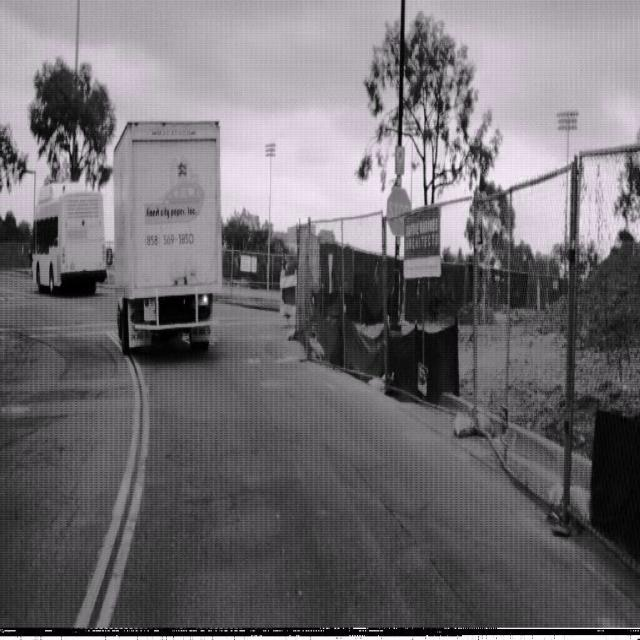stop: (386, 185, 412, 238)
